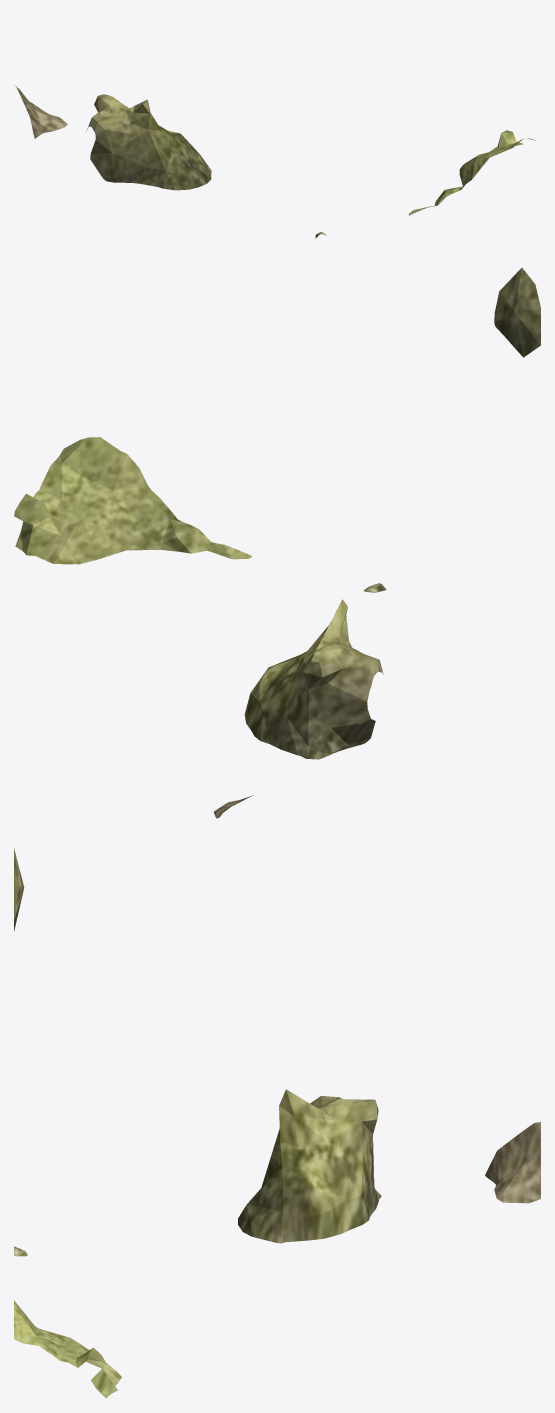
3 views of the same model, one above another, from view 1: azimuth 30°, elevation 25°; view 2: azimuth 150°, elevation 25°; view 3: azimuth 270°, elevation 25° (orthographic). The views are drawn at different scales.
Bounding box in the file's own units: 5.9 × 4.18 × 5.9.
1 material, 1 textured.
